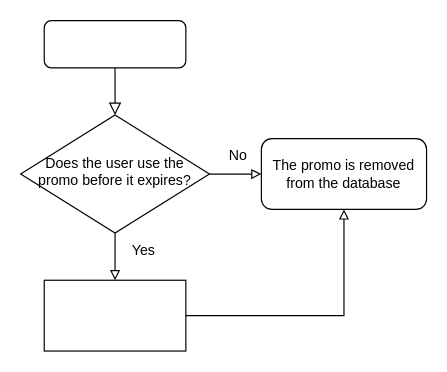
Some shapes in this 447 by 372 pixel diagram are drawn without their labels. Each missing label, with the centre of its shape:
"The user gets a discount on their purchase" belongs at [114,315].
"User gets a promo code on their birthday" belongs at [114,43].
